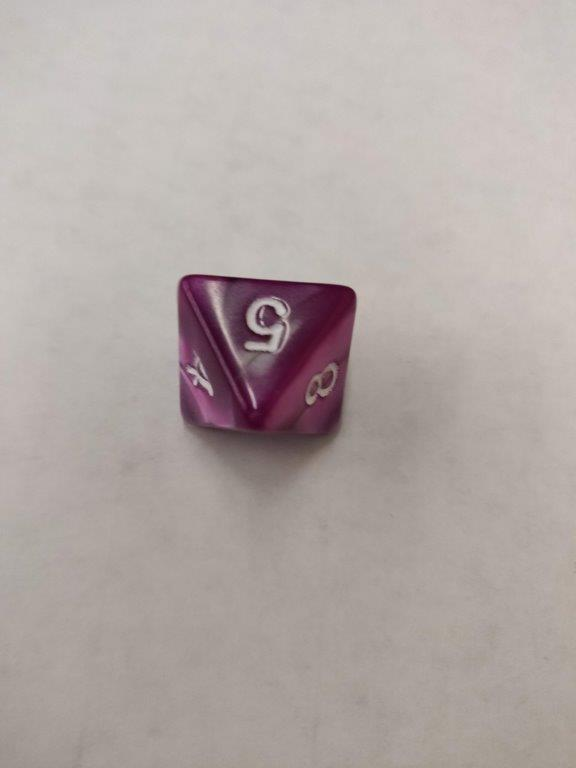d8-5: (176, 273, 358, 440)
